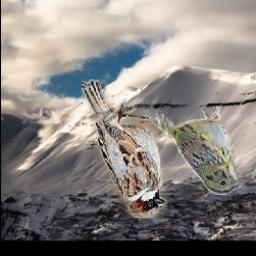Sparrow: (82, 79, 167, 218), (150, 106, 243, 195)
